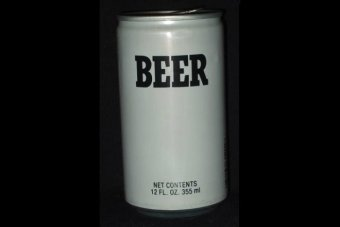beer can: (115, 9, 228, 213)
